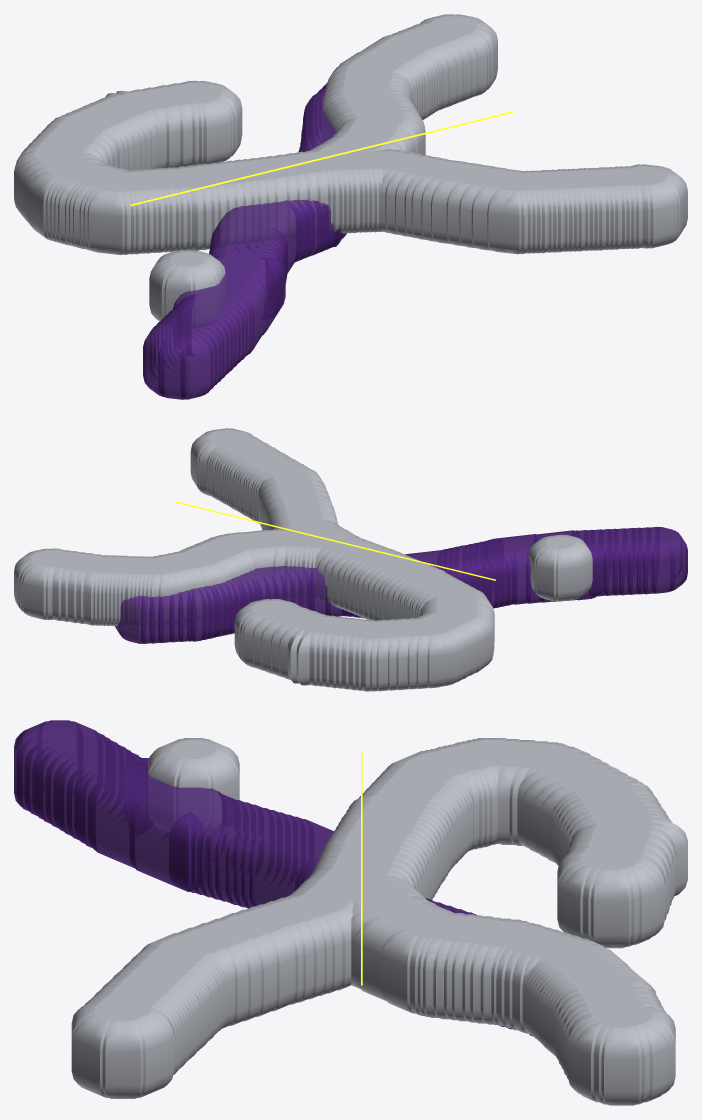
Rendered from saint-kai-03.glb.
3 renders of one model, top to bottom at view 1: azimuth 30°, elevation 25°; view 2: azimuth 150°, elevation 25°; view 3: azimuth 270°, elevation 25°, orthographic. The views are drawn at different scales.
Visible parts, largest first — view 1: SaintKai03Silver, SaintKai03Purple, AcidSignal; view 2: SaintKai03Silver, SaintKai03Purple, AcidSignal; view 3: SaintKai03Silver, SaintKai03Purple.
Part boxes in pixels (<box>): SaintKai03Silver: <box>14,14,687,329</box>; SaintKai03Purple: <box>143,82,346,399</box>; AcidSignal: <box>130,111,513,206</box>; SaintKai03Silver: <box>14,428,592,691</box>; SaintKai03Purple: <box>114,526,687,643</box>; AcidSignal: <box>176,501,495,580</box>; SaintKai03Silver: <box>71,738,687,1105</box>; SaintKai03Purple: <box>14,720,533,1036</box>.
Bounding box in the file's own units: 3.1 × 0.413 × 2.57.
